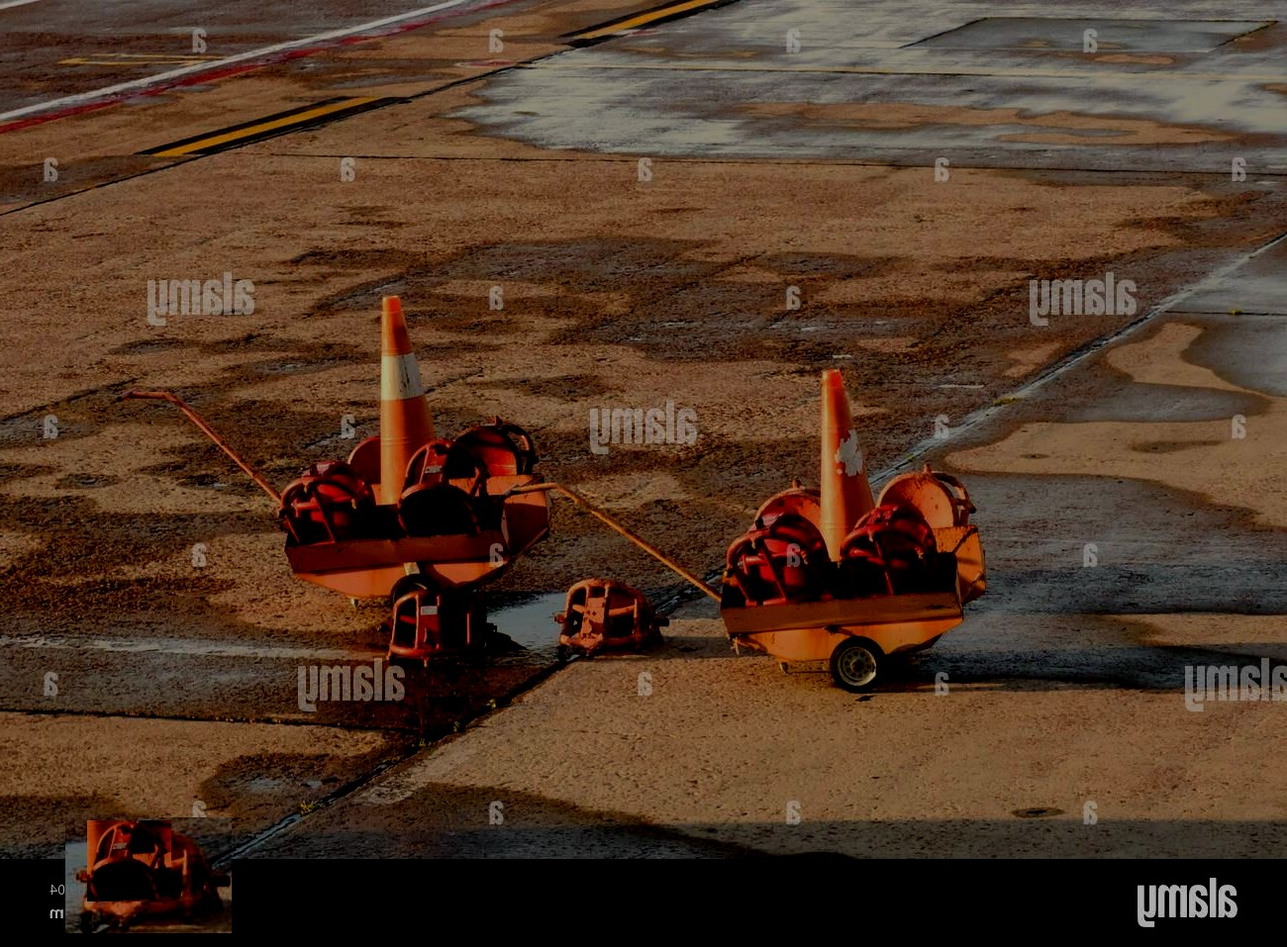chock: (65, 817, 232, 933), (723, 506, 832, 606), (546, 575, 669, 662), (838, 500, 938, 599), (394, 439, 495, 537), (278, 463, 375, 548), (386, 586, 490, 662), (87, 820, 171, 901), (876, 463, 974, 529), (444, 413, 537, 481), (746, 481, 822, 548), (340, 429, 381, 481)
wheel: (829, 636, 888, 695), (386, 573, 444, 622)
